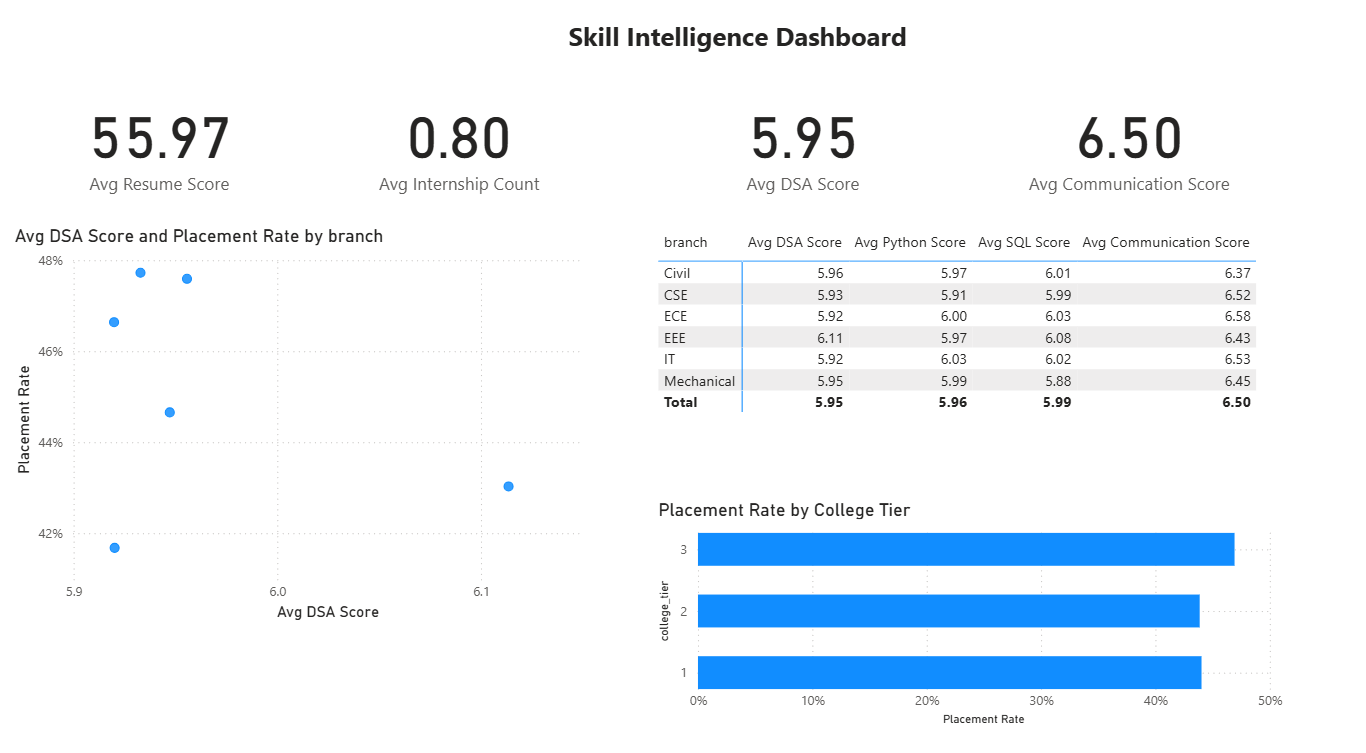

The dashboard page shown, as its layout file describes it:
{"tool":"powerbi","page":{"name":"Skill Intelligence Dashboard","canvas":[1280,720],"ordinal":2},"visuals":[{"type":"card","fields":{"Values":["applications.Avg Resume Score"]},"box":[11.6,0,279.1,280.2],"z":0},{"type":"card","fields":{"Values":["applications.Avg Internship Count"]},"box":[290.7,0,279.1,280.2],"z":1000},{"type":"card","fields":{"Values":["applications.Avg DSA Score"]},"box":[610.5,0,279.1,280.2],"z":2000},{"type":"card","fields":{"Values":["applications.Avg Communication Score"]},"box":[914,0,279.1,280.2],"z":3000},{"type":"scatterChart","fields":{"X":["applications.Avg DSA Score"],"Y":["applications.Placement Rate"],"Category":["students.branch"]},"box":[11.6,217.4,546.5,373.3],"z":4000},{"type":"pivotTable","fields":{"Rows":["students.branch"],"Values":["applications.Avg DSA Score","applications.Avg Python Score","applications.Avg SQL Score","applications.Avg Communication Score"]},"box":[610.5,217.4,590.7,216.3],"z":5000},{"type":"clusteredBarChart","title":"Placement Rate by College Tier","fields":{"Y":["applications.Placement Rate"],"Category":["students.college_tier"]},"box":[610.5,472.1,590.7,216.3],"z":6000},{"type":"textbox","box":[526.7,20.9,351.2,53.5],"z":7000}]}

Visuals, with their boxes in screenshot pixels (x1, y1, x2, y2), scaled from the page's 1280x720 canvas onto the 1366x753 screenshot:
card - applications.Avg Resume Score: (x1=12, y1=0, x2=310, y2=293)
card - applications.Avg Internship Count: (x1=310, y1=0, x2=608, y2=293)
card - applications.Avg DSA Score: (x1=652, y1=0, x2=949, y2=293)
card - applications.Avg Communication Score: (x1=975, y1=0, x2=1273, y2=293)
scatterChart - applications.Avg DSA Score x applications.Placement Rate: (x1=12, y1=227, x2=596, y2=618)
pivotTable - students.branch x applications.Avg DSA Score: (x1=652, y1=227, x2=1282, y2=454)
"Placement Rate by College Tier" clusteredBarChart: (x1=652, y1=494, x2=1282, y2=720)
textbox: (x1=562, y1=22, x2=937, y2=78)
